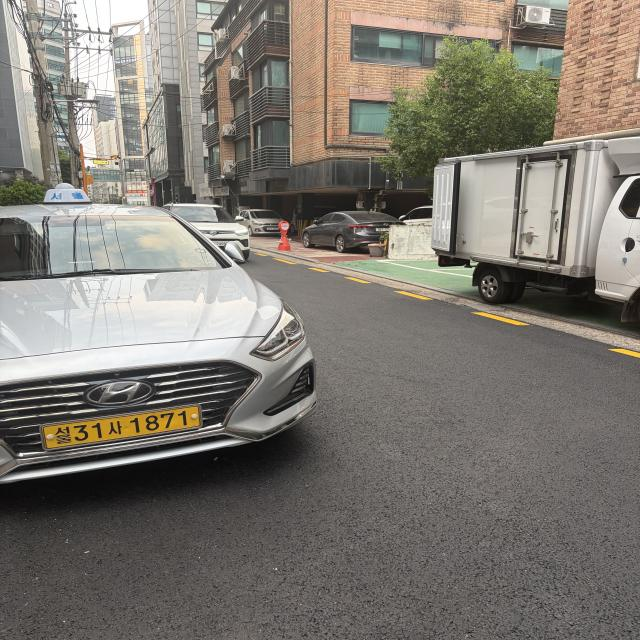car: (0, 169, 336, 542), (414, 126, 640, 336), (158, 195, 258, 273), (298, 205, 414, 263)
